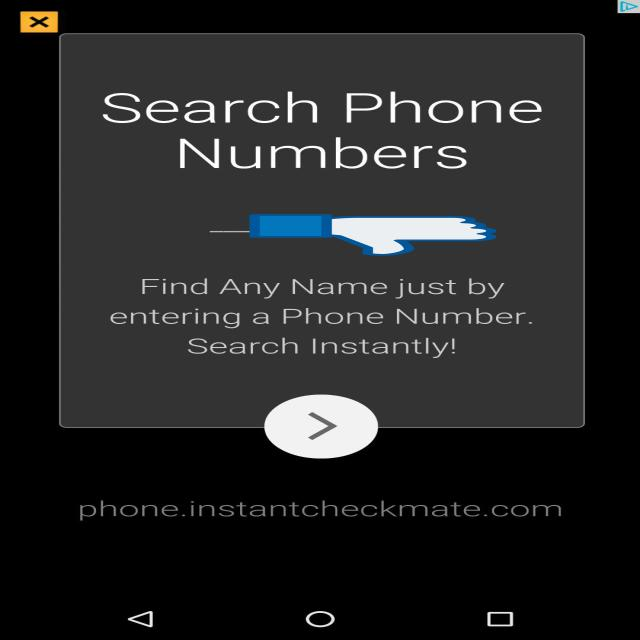obstruction: (249, 213, 496, 257)
